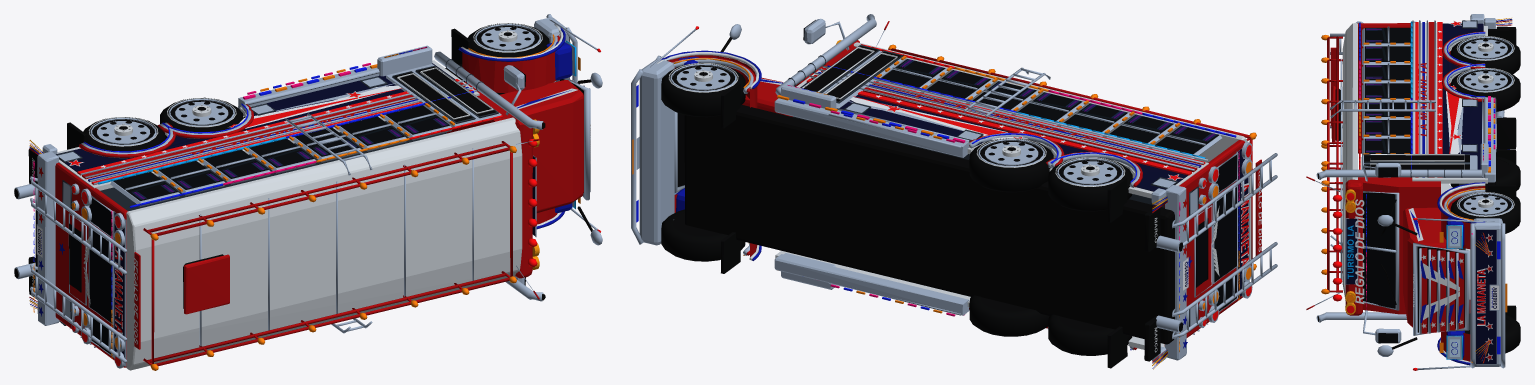
Rendered from 02-la-mamaneta-medium.obj.
3 views of the same model, side by side, from view 1: azimuth 30°, elevation 25°; view 2: azimuth 150°, elevation 25°; view 3: azimuth 270°, elevation 25° (orthographic). The views are drawn at different scales.
Parts seen in each view (by area): view 1: 02-la-mamaneta-medium; view 2: 02-la-mamaneta-medium; view 3: 02-la-mamaneta-medium.
Part boxes in pixels (x1,y1,x2,y2): 02-la-mamaneta-medium: [14, 14, 602, 370]; 02-la-mamaneta-medium: [631, 14, 1277, 369]; 02-la-mamaneta-medium: [1306, 14, 1520, 370].
Size of the model in its own units: 9.61 by 3.65 by 3.94.
